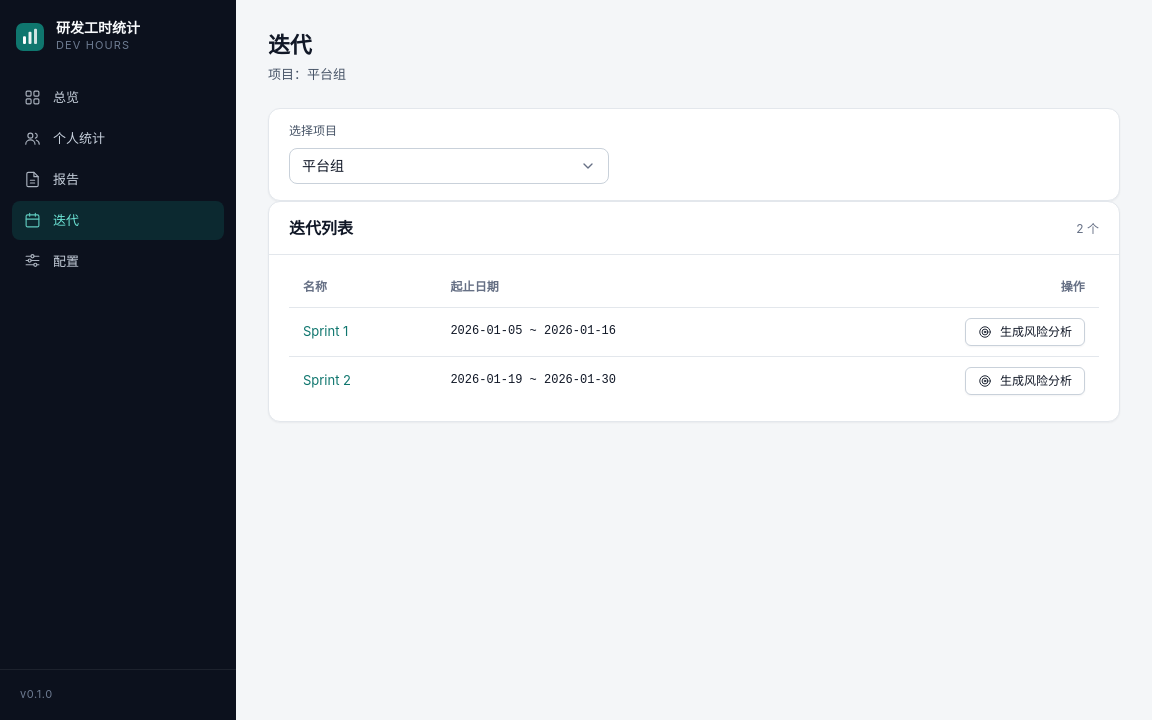
IterationListPage › 生成风险分析失败（LLM 未配置）时展示红色 alert 与后端错误信息
Step 1. Click the button "生成风险分析" in the row of "Sprint 1" → (1025,332), box [965,318,1085,346]
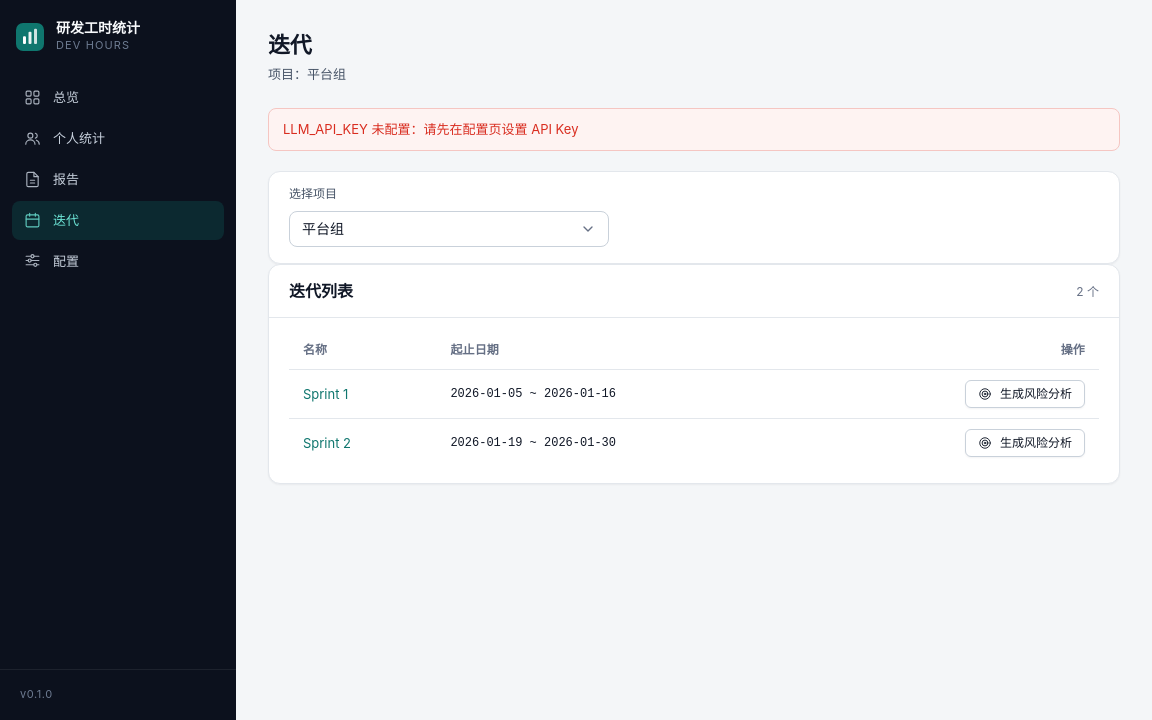
Expected: the message reads "LLM_API_KEY 未配置：请先在配置页设置 API Key", [283,121,578,137]
